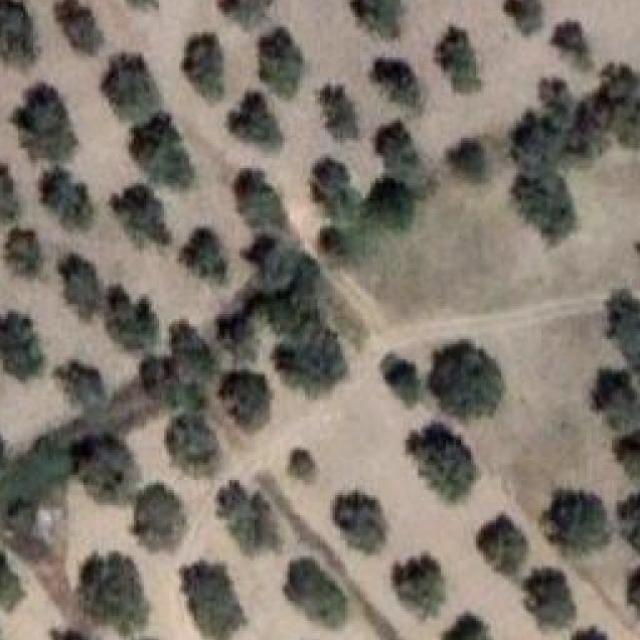Tree: (240, 236, 326, 323), (566, 65, 640, 158), (142, 321, 217, 412), (508, 156, 580, 246), (429, 339, 505, 418), (8, 80, 78, 162), (406, 422, 477, 502), (81, 553, 148, 636), (273, 319, 348, 392), (129, 115, 198, 187), (182, 565, 246, 640), (73, 432, 139, 502), (217, 480, 278, 553), (288, 558, 349, 627), (101, 52, 159, 123), (544, 490, 610, 552), (134, 483, 188, 550), (511, 111, 578, 165), (375, 121, 425, 193), (393, 552, 447, 618), (335, 490, 389, 553), (167, 413, 220, 476), (107, 286, 157, 351), (363, 176, 413, 241), (114, 186, 168, 246), (476, 513, 527, 576), (227, 93, 284, 149), (524, 568, 578, 627), (43, 166, 95, 227), (260, 27, 304, 99), (313, 158, 363, 221), (0, 310, 44, 381), (436, 27, 482, 94), (58, 254, 103, 321), (234, 171, 286, 228), (219, 374, 270, 430), (182, 35, 222, 102), (53, 359, 107, 408), (607, 292, 640, 372), (56, 0, 103, 53), (380, 351, 422, 407), (0, 0, 36, 65), (179, 228, 223, 281), (373, 60, 419, 108), (318, 80, 357, 134), (592, 369, 637, 411), (352, 0, 400, 36), (6, 228, 42, 276), (617, 490, 640, 559), (449, 138, 485, 181), (283, 448, 321, 487), (219, 0, 272, 26), (444, 613, 494, 640), (508, 0, 546, 33), (614, 430, 640, 478), (552, 26, 588, 56), (0, 158, 17, 221), (318, 226, 347, 262), (540, 78, 570, 108), (625, 565, 640, 612), (572, 626, 610, 640)
